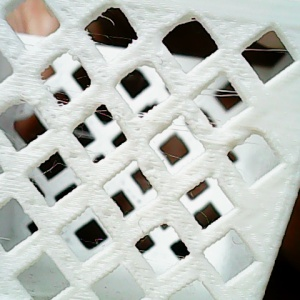3dpstringing: (195, 85, 248, 100), (242, 46, 291, 58), (46, 86, 71, 109), (83, 144, 106, 163), (90, 107, 118, 122), (158, 151, 190, 163), (177, 18, 206, 30), (235, 137, 260, 149), (171, 121, 193, 134), (97, 13, 117, 27), (132, 109, 153, 122), (1, 234, 22, 246), (229, 231, 242, 245)
